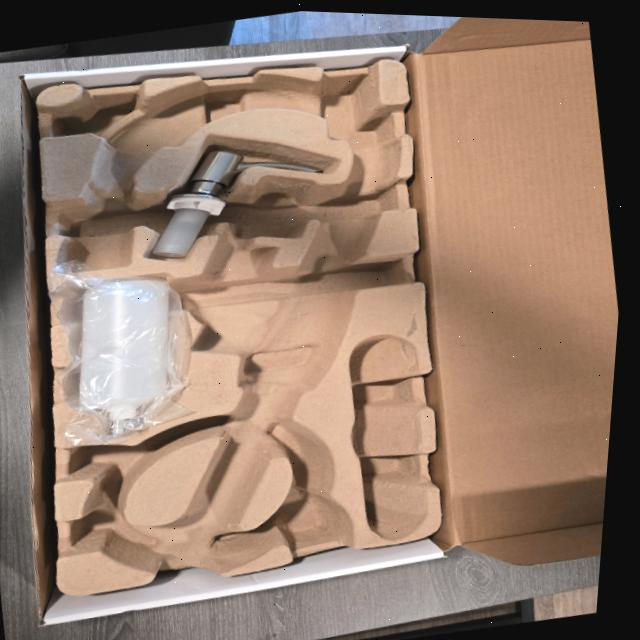1m: (64, 77, 399, 577)
2: (153, 146, 322, 257)
3: (74, 278, 162, 434)
4m: (348, 334, 425, 540)
5m: (271, 490, 349, 545)
6m: (71, 508, 156, 559)
7m: (68, 446, 148, 484)
